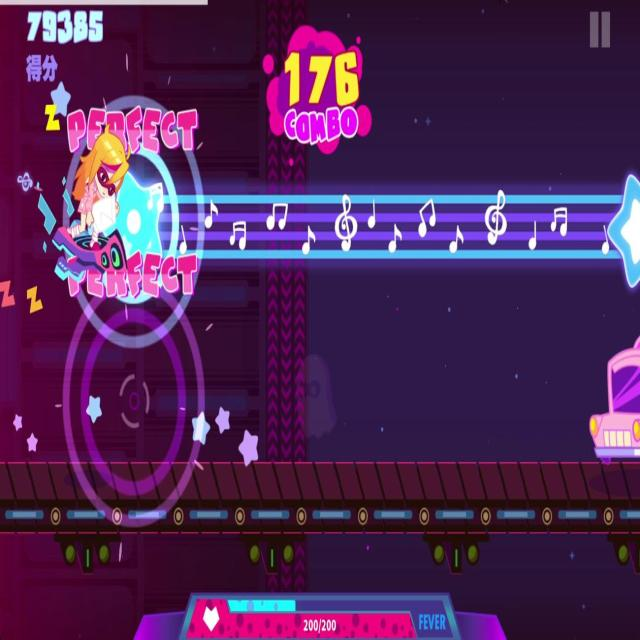che: (585, 332, 640, 460)
hold: (97, 162, 640, 290)
